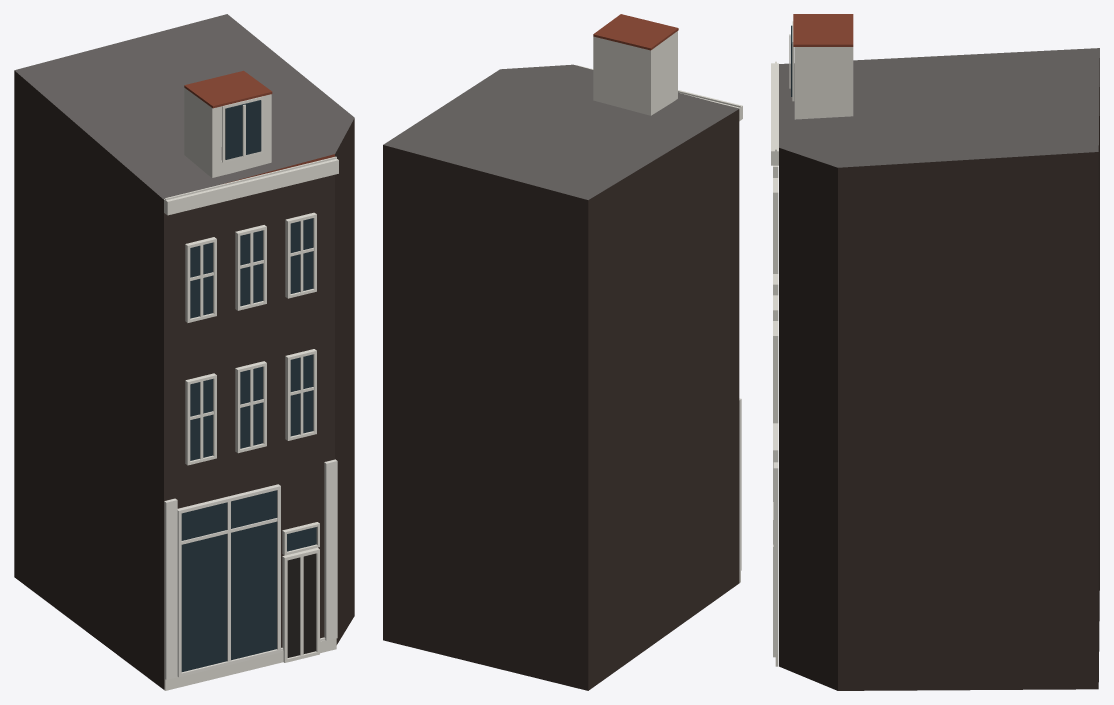
3 renders of one model, left to right at view 1: azimuth 30°, elevation 25°; view 2: azimuth 150°, elevation 25°; view 3: azimuth 270°, elevation 25°, orthographic. The views are drawn at different scales.
Parts seen in each view (by area): view 1: spec-0363100012182582; view 2: spec-0363100012182582; view 3: spec-0363100012182582.
Part boxes in pixels (x1,y1,x2,y2): spec-0363100012182582: [14, 14, 354, 690]; spec-0363100012182582: [383, 14, 742, 690]; spec-0363100012182582: [771, 14, 1099, 690].
Size of the model in its own units: 5.89 by 14.52 by 7.29.
